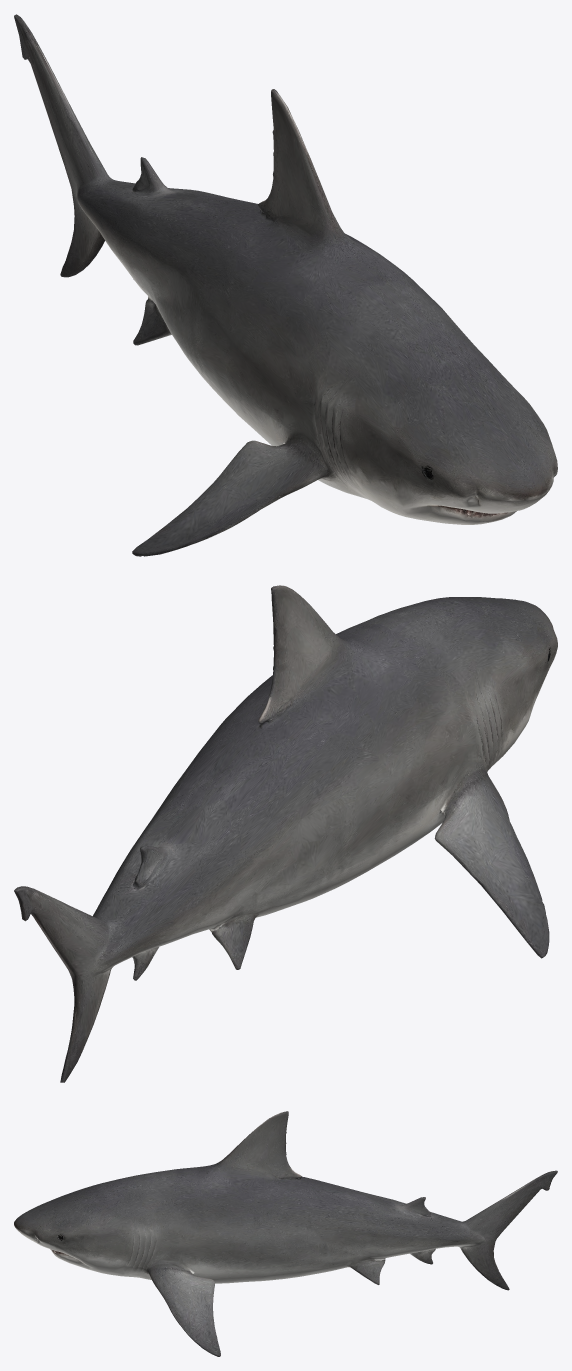
Rendered from bullenhai.glb.
3 views of the same model, one above another, from view 1: azimuth 30°, elevation 25°; view 2: azimuth 150°, elevation 25°; view 3: azimuth 270°, elevation 25° (orthographic). The views are drawn at different scales.
Bounding box in the file's own units: 0.8721 × 0.7445 × 1.9.
Materials: 1 (1 with a texture image).
